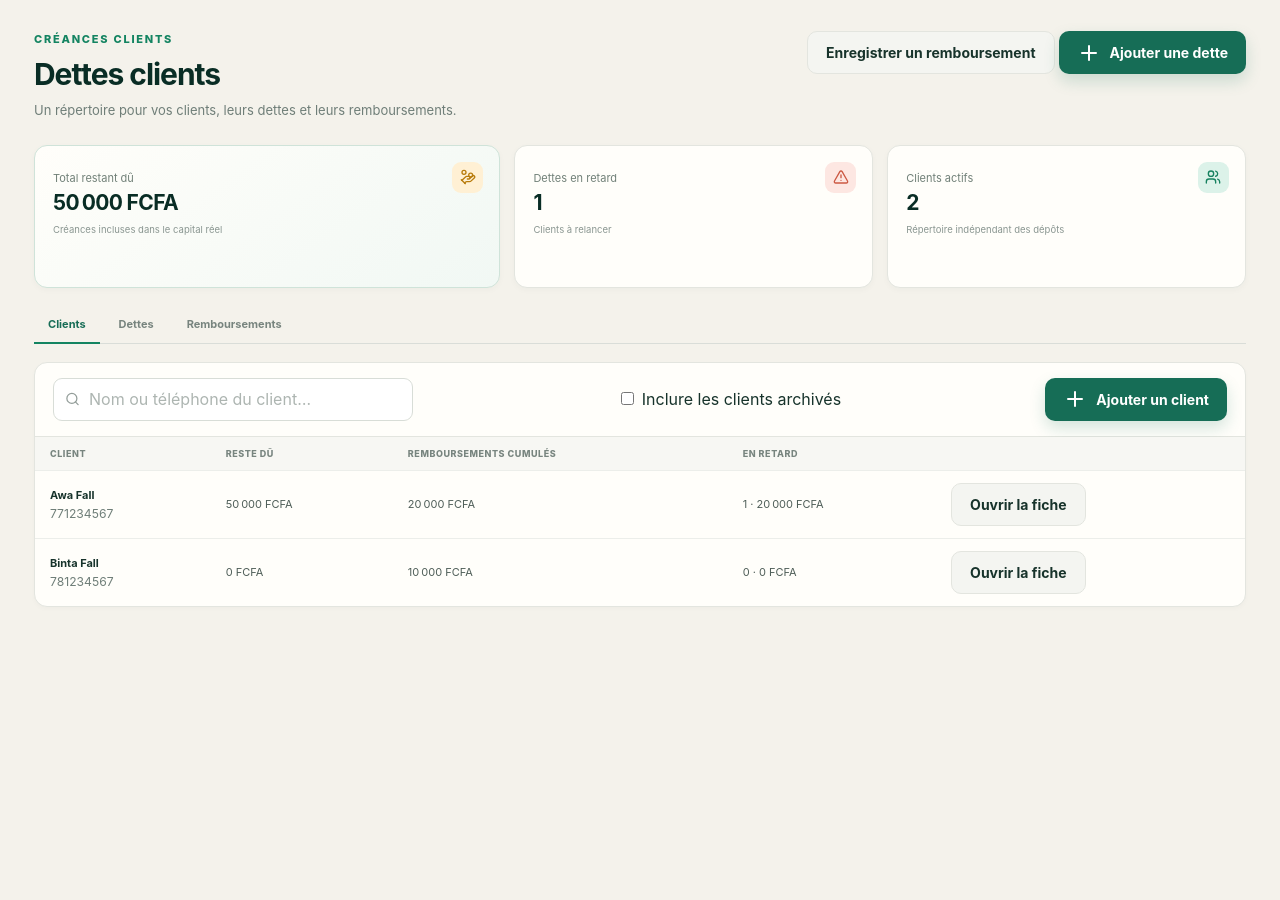
Test: clients des dettes et remboursements globaux › ouvre le paiement global depuis une dette avec le client présélectionné
Expected: the text "Awa Fall" is shown, x1=50 y1=488 x2=94 y2=502
Click the tab "Dettes" at (136,325), box x1=105 y1=306 x2=168 y2=344
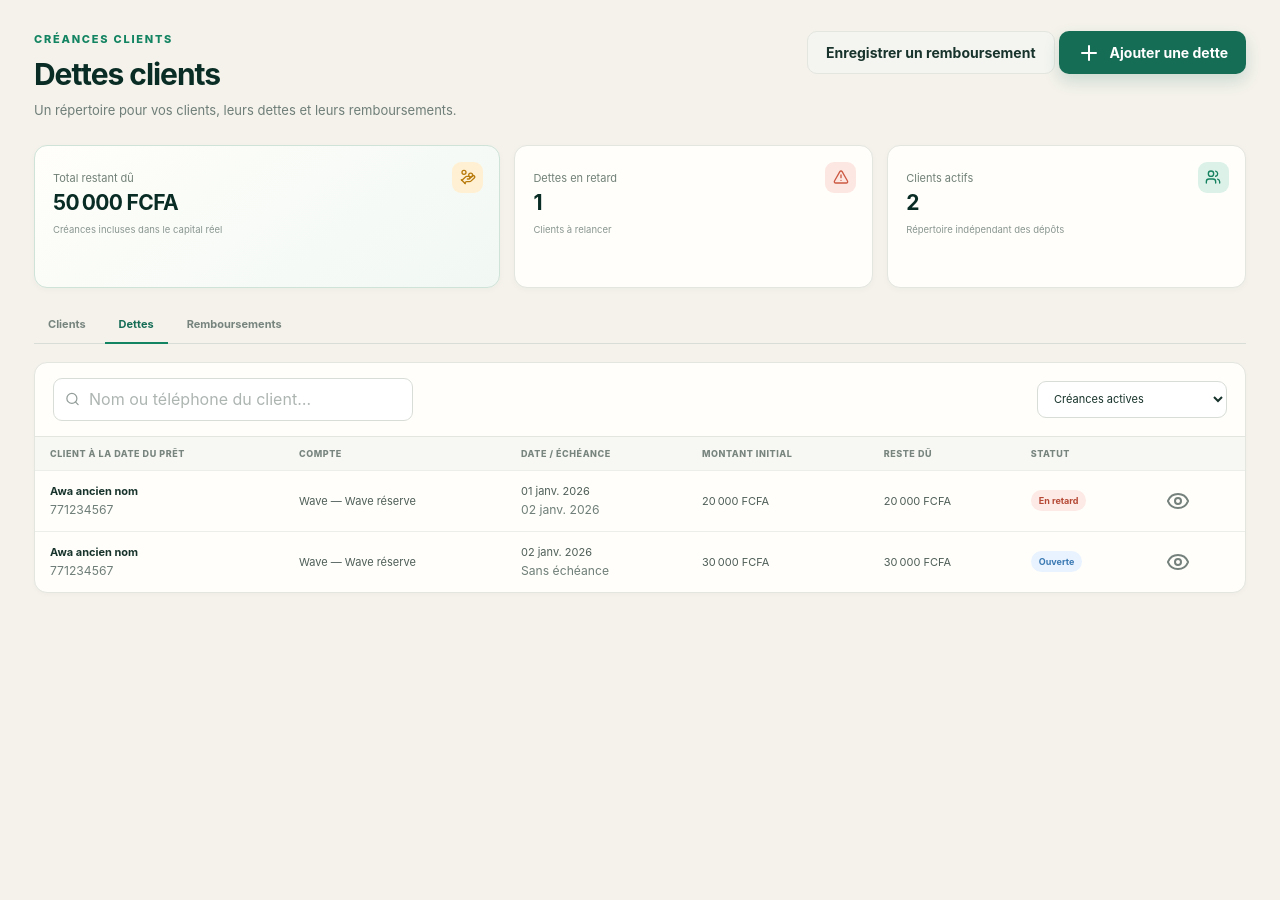
Click the button named "Détail de la dette de Awa ancien nom" in the row of "Sans échéance" at (1178,562), box x1=1160 y1=544 x2=1196 y2=580
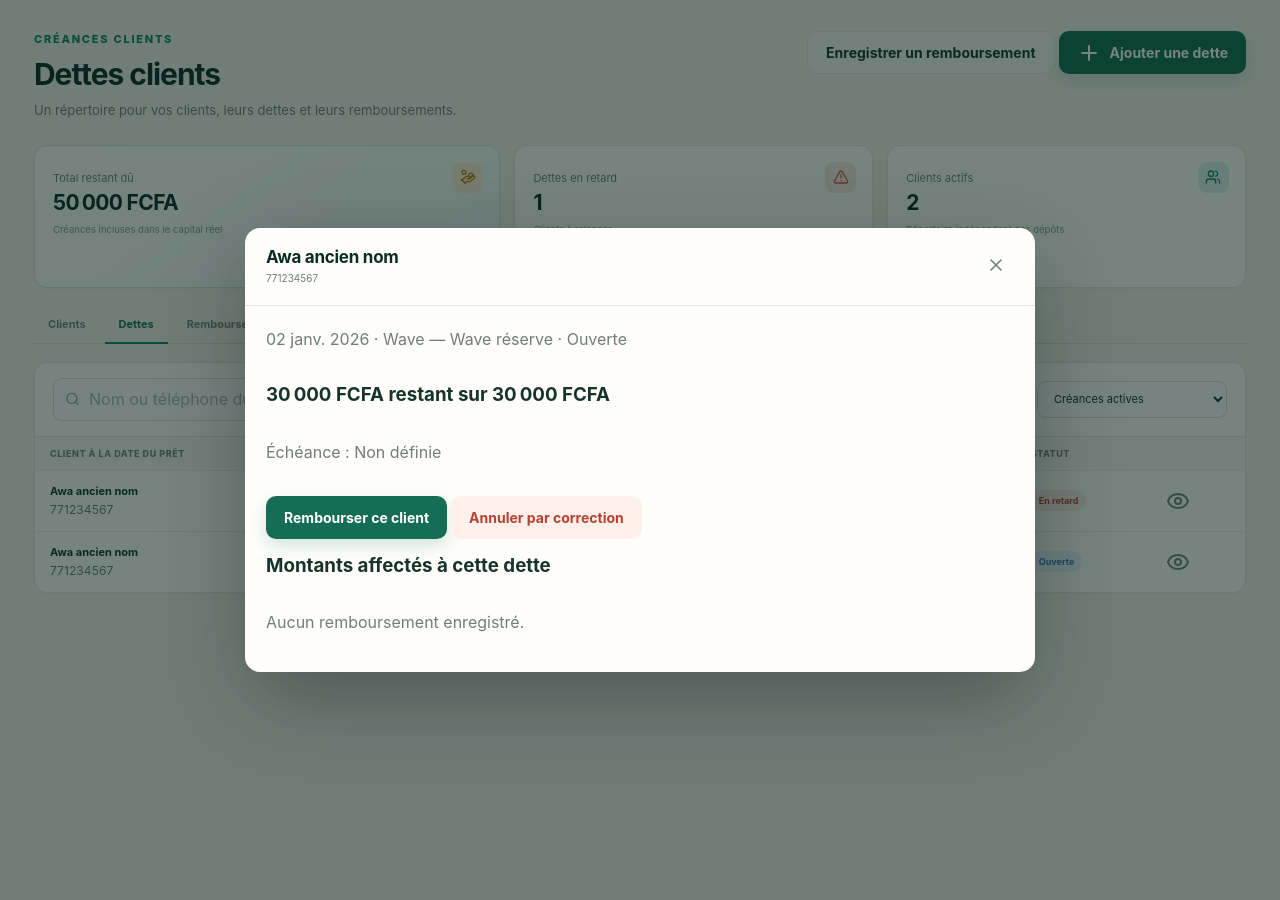
Click the button "Rembourser ce client" at (357,517), box x1=266 y1=496 x2=447 y2=539
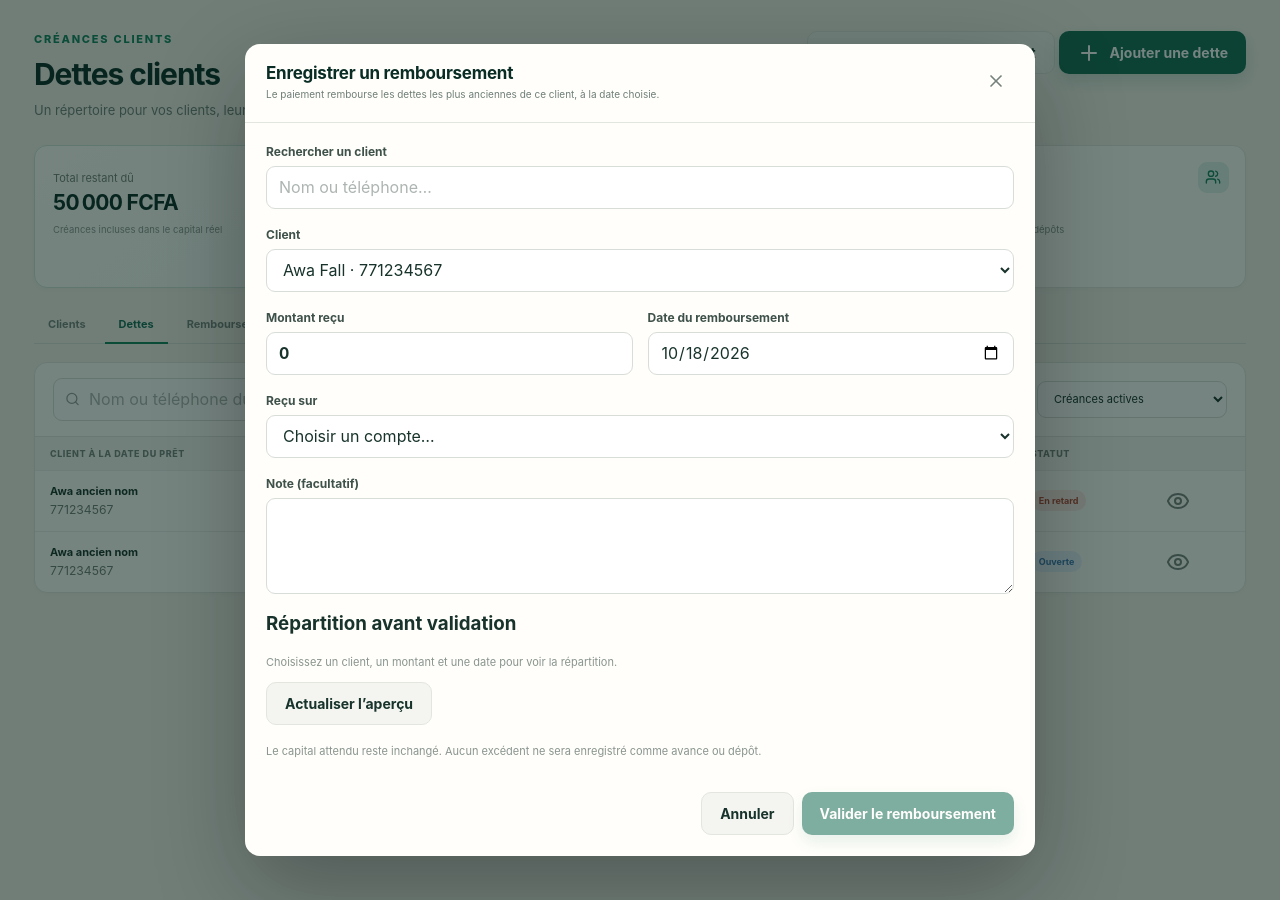
Result: the dropdown labelled "Client" shows "Awa Fall · 771234567" at x1=266 y1=249 x2=1014 y2=292
Result: the dialog shows "les dettes les plus anciennes" at x1=266 y1=88 x2=659 y2=100
